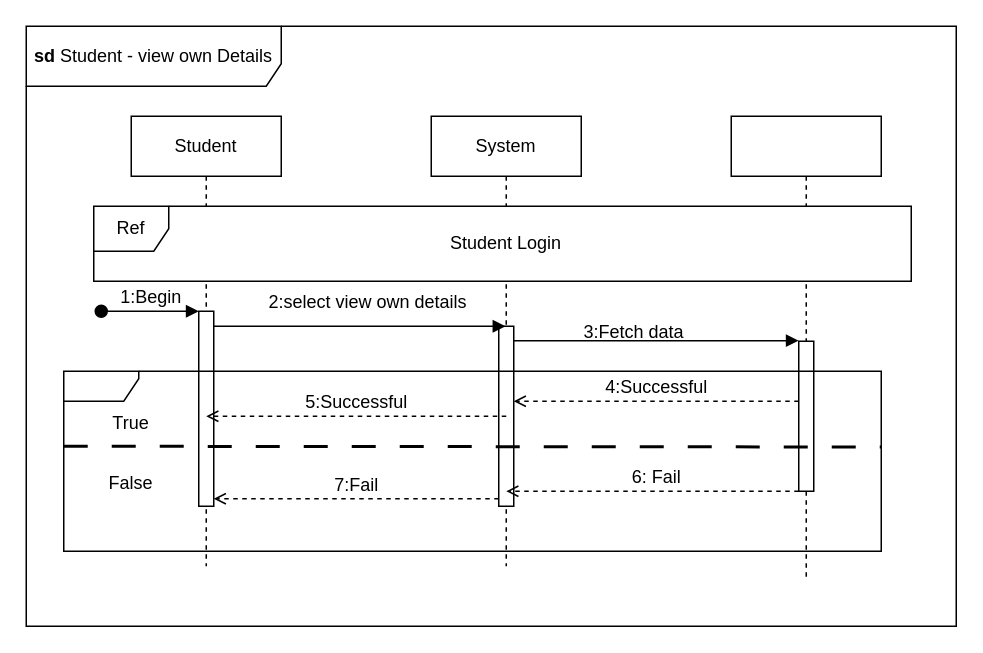
Some shapes in this 983 by 653 pixel diagram are drawn without their labels. Each missing label, with the centre of its shape:
alt: point 471,460
Database: point 805,348
